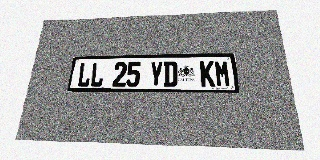2: (112, 62, 127, 87)
5: (126, 62, 140, 87)
D: (163, 61, 177, 87)
K: (199, 61, 215, 87)
L: (89, 62, 105, 87), (76, 63, 92, 87)
M: (214, 60, 231, 87)
Y: (149, 61, 163, 87)
